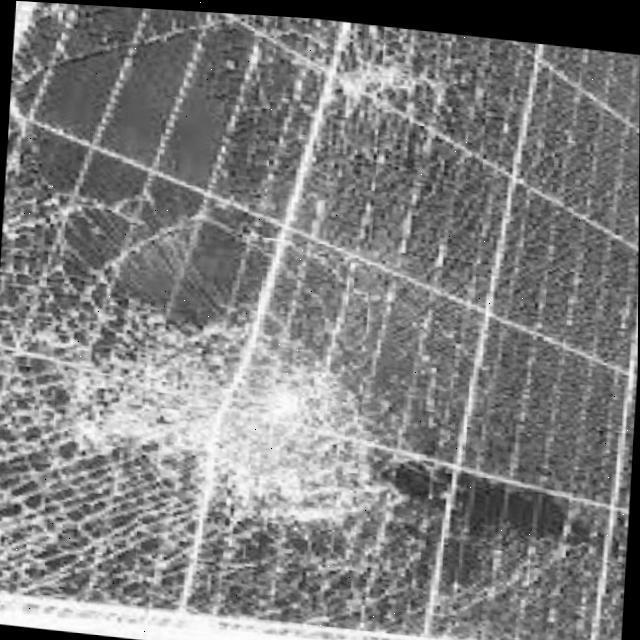Anomaly Solar Panel: (0, 1, 640, 640)
Structural Damage: (0, 197, 595, 640), (276, 13, 465, 163), (27, 2, 102, 88)
